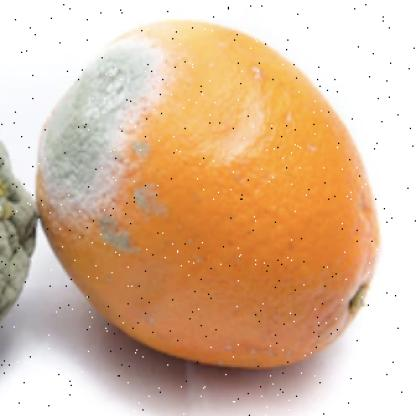rotten: (36, 24, 380, 377)
